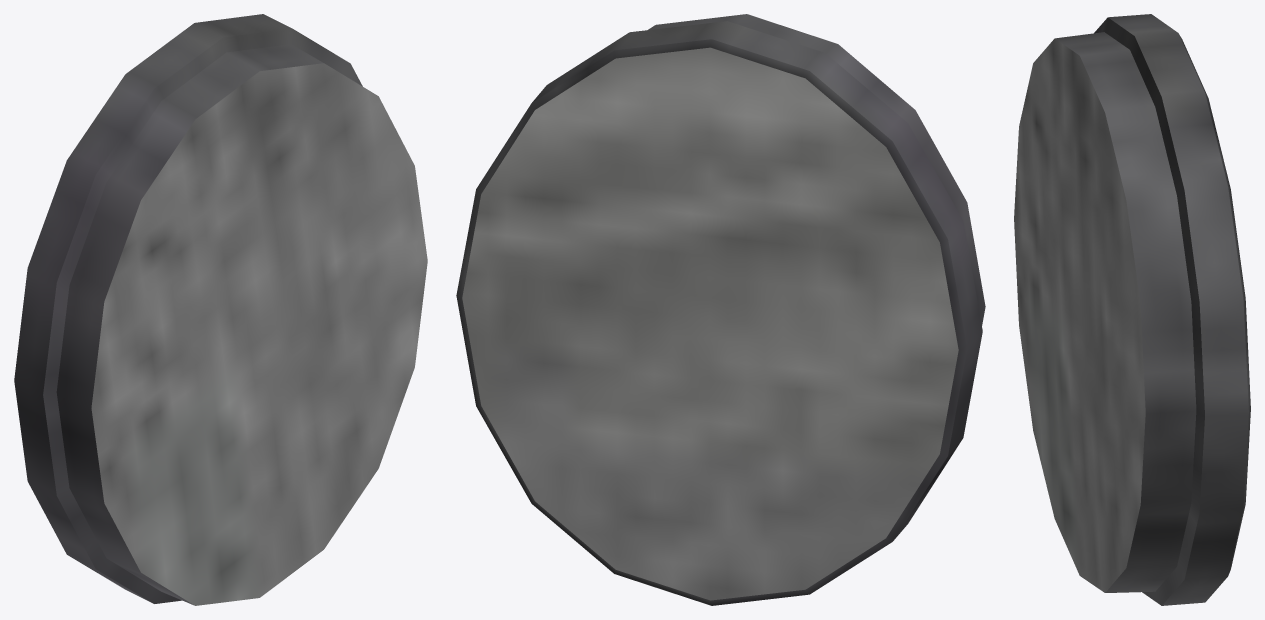
The model's file is LlantaDer1.obj.
The picture shows the model from 3 angles, left to right: view 1: azimuth 30°, elevation 25°; view 2: azimuth 150°, elevation 25°; view 3: azimuth 270°, elevation 25°; orthographic projection. The views are drawn at different scales.
Visible parts, largest first — view 1: LlantaDer1; view 2: LlantaDer1; view 3: LlantaDer1.
Boxes of the visible parts, x1,y1,x2,y2 form: LlantaDer1: (14, 14, 427, 605); LlantaDer1: (456, 14, 985, 605); LlantaDer1: (1014, 14, 1250, 605).
Size of the model in its own units: 0.219 by 0.2663 by 0.1038.
Materials: 1 (1 with a texture image).
